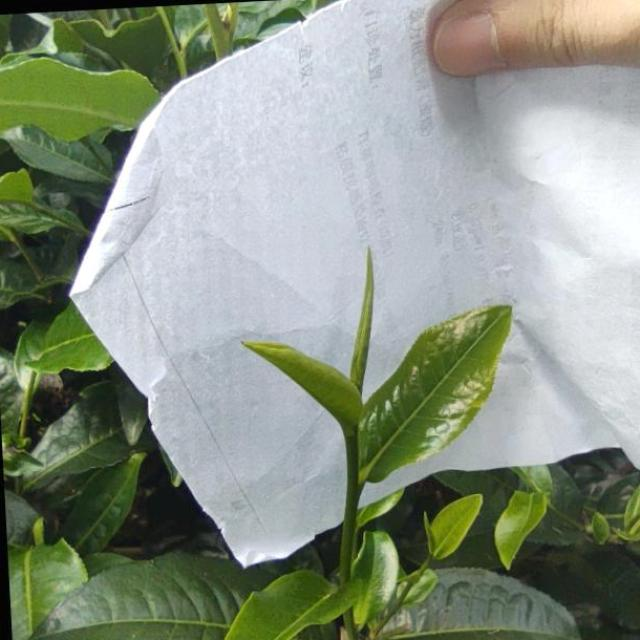Stem: (348, 486, 360, 498)
